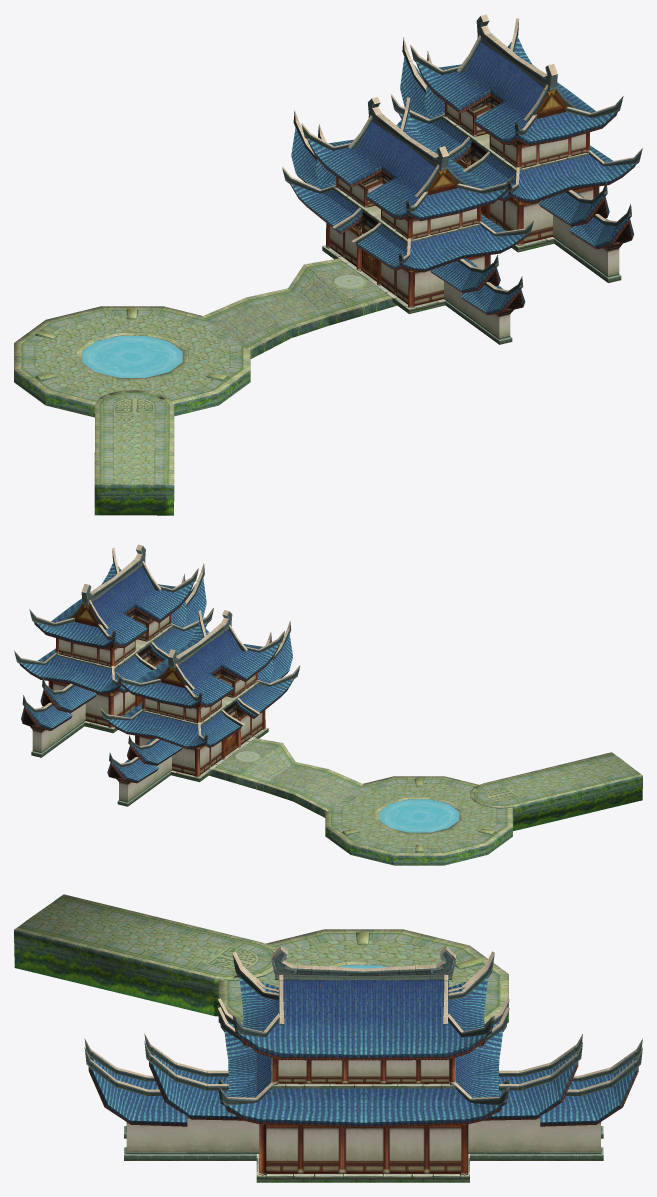
The model's file is dimian.FBX.
3 views of the same model, one above another, from view 1: azimuth 30°, elevation 25°; view 2: azimuth 150°, elevation 25°; view 3: azimuth 270°, elevation 25° (orthographic). The views are drawn at different scales.
Visible parts, largest first — view 1: Object27, Object032, Object08, Box01, Box18, objObject01; view 2: Object27, Object032, Object08, Box01, Box18, objObject01; view 3: Object032, Box01, Object08, Object27.
Part boxes in pixels (x1,y1,x2,y2): Object27: (282,97,533,344); Object032: (391,14,642,282); Object08: (14,306,250,417); Box01: (94,390,174,515); Box18: (201,258,396,358); objObject01: (82,336,182,377); Object27: (100,610,300,806); Object032: (14,544,213,757); Object08: (325,776,512,865); Box01: (470,752,642,830); Box18: (209,738,363,817); objObject01: (379,799,459,832); Object032: (84,946,642,1182); Box01: (14,894,277,1016); Object08: (218,929,508,1023); Object27: (84,951,642,1138).
Size of the model in its own units: 8008 by 3168 by 5804.
